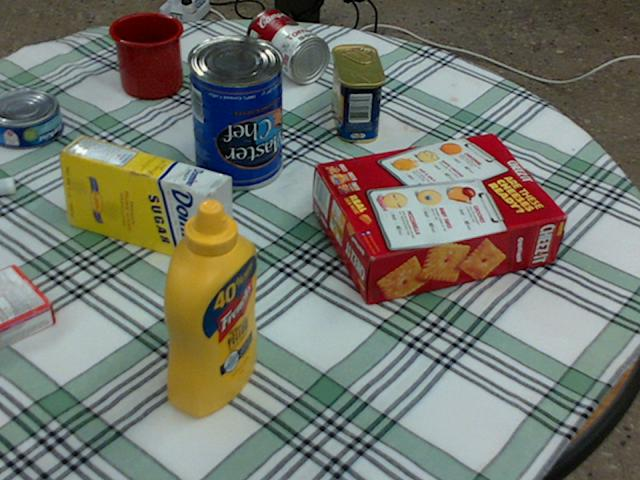cracker_box: (315, 133, 566, 305)
gelatin_box: (0, 264, 55, 348)
large_marker: (0, 177, 15, 195)
master_chef_can: (185, 35, 280, 189)
mug: (110, 12, 184, 97)
mustard_bottle: (162, 199, 256, 414)
potted_meat_can: (330, 44, 384, 142)
sugar_box: (58, 135, 231, 269)
tomato_soup_can: (246, 8, 328, 82)
tuna_fish_can: (0, 89, 63, 148)
